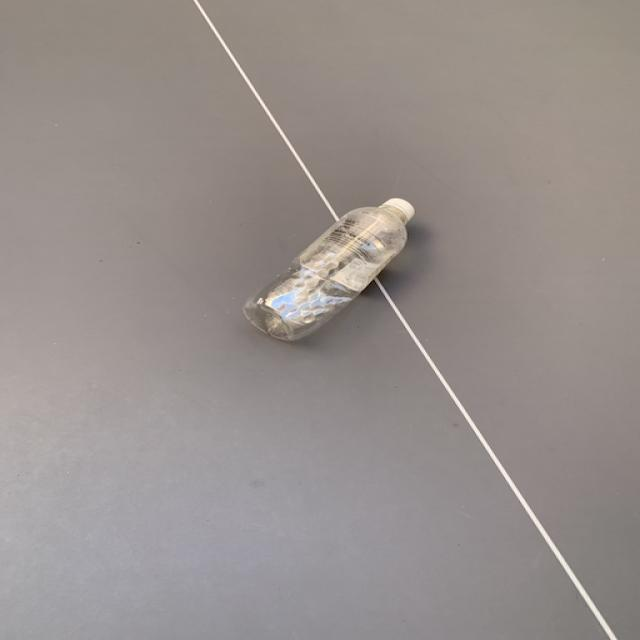Waste: (245, 198, 415, 341)
